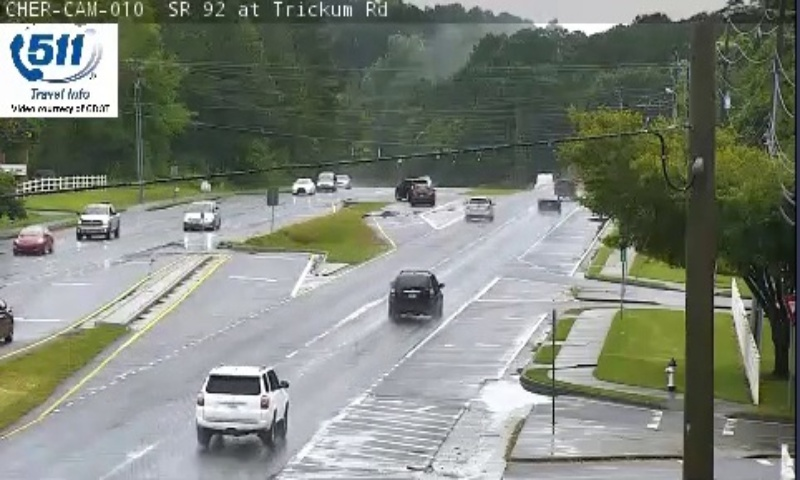car: (194, 364, 290, 433), (388, 270, 443, 315), (464, 196, 492, 220)
